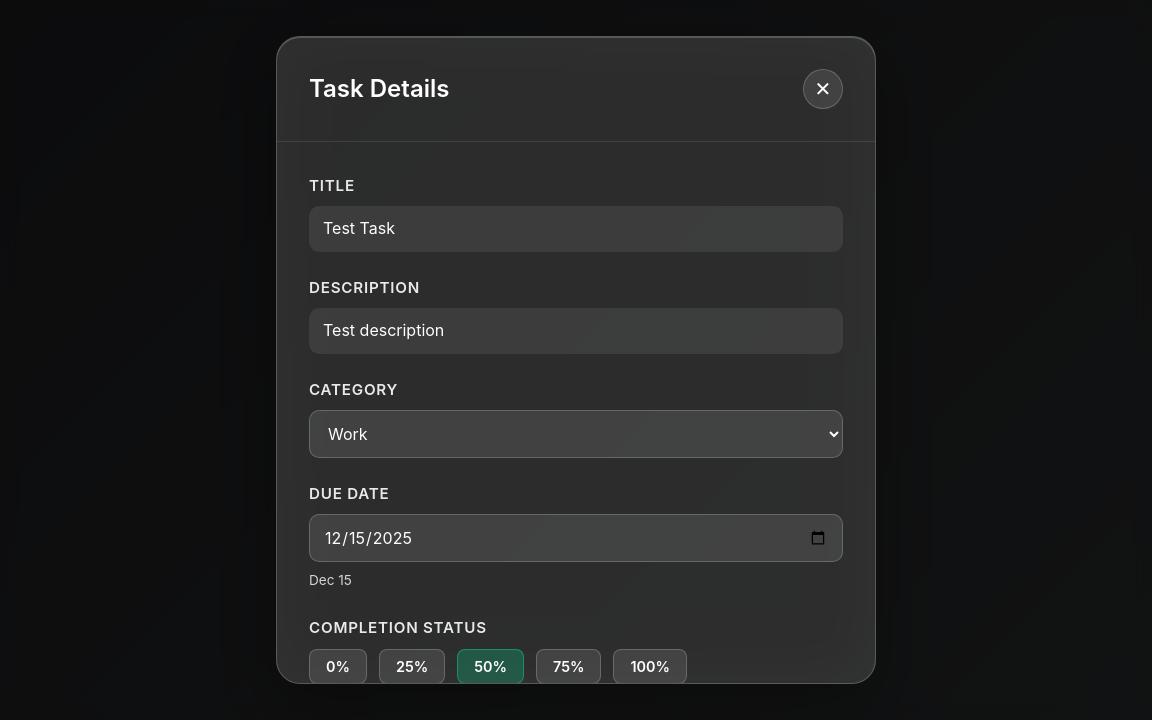
it: TaskDetail Component › renders description input field
The width and height of the screenshot is (1152, 720).
// When clicked, it shows the textarea
Click the text "Test description". click: (576, 331)
box: [309,308,843,354]
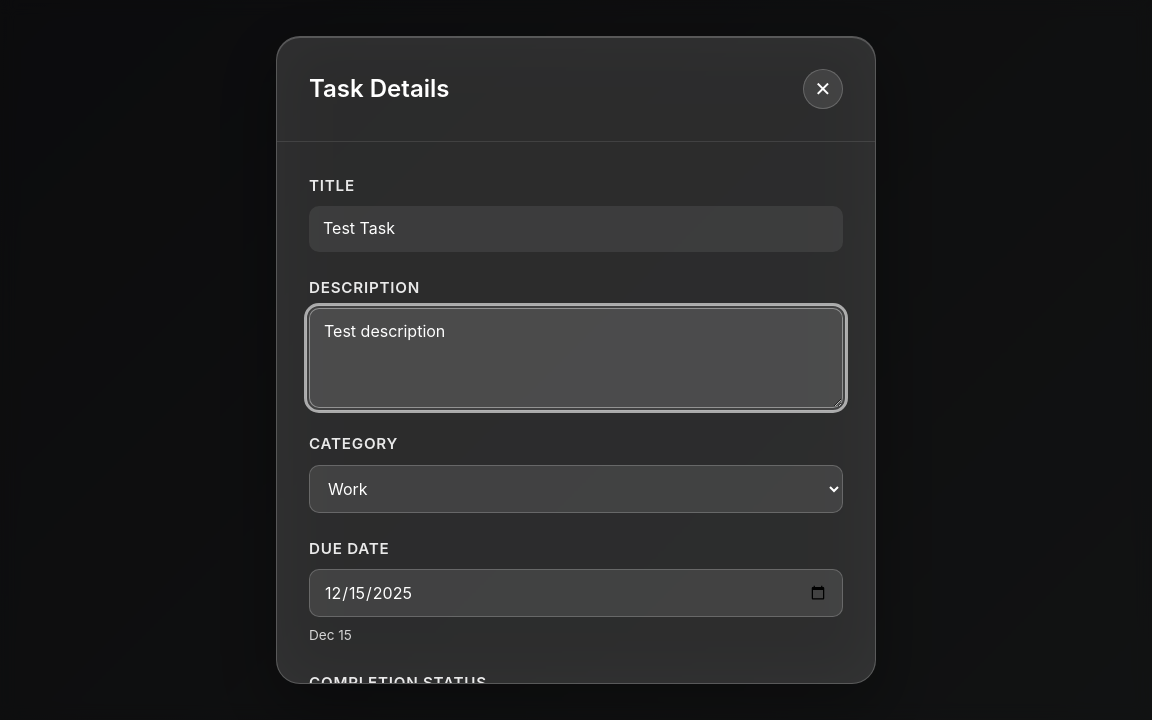
expect the text box is shown: met, box [309,308,843,408]
